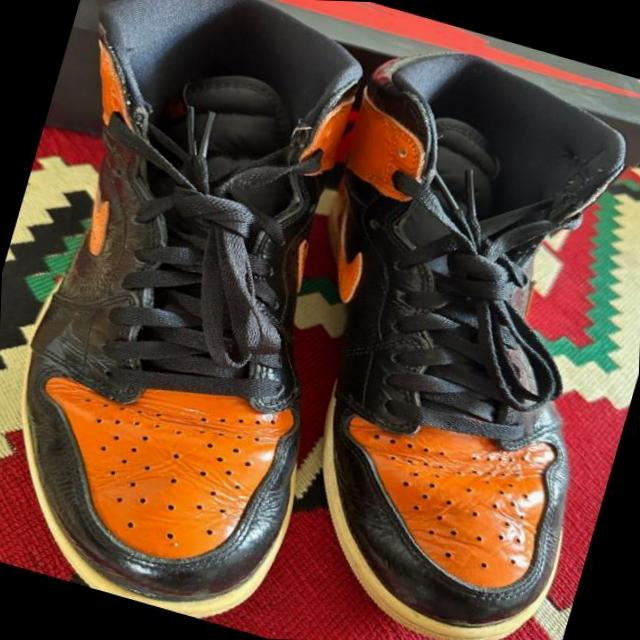nike_original_jordan: (181, 11, 640, 640), (0, 0, 427, 640)
